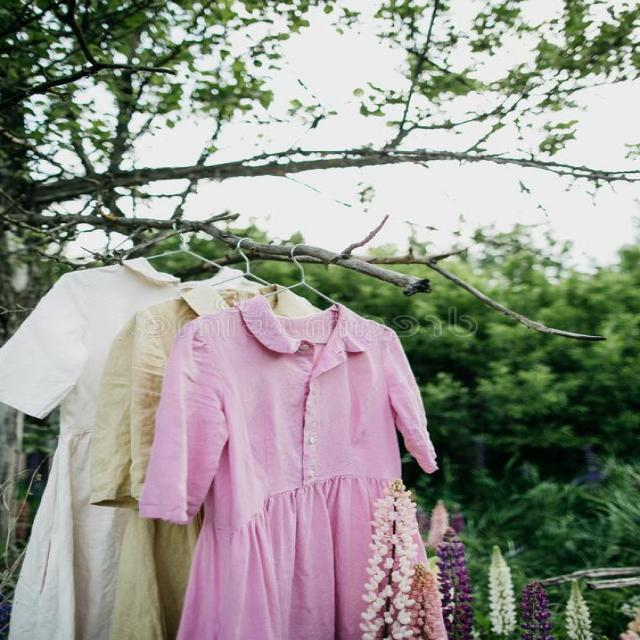clothes: (1, 305, 424, 640)
